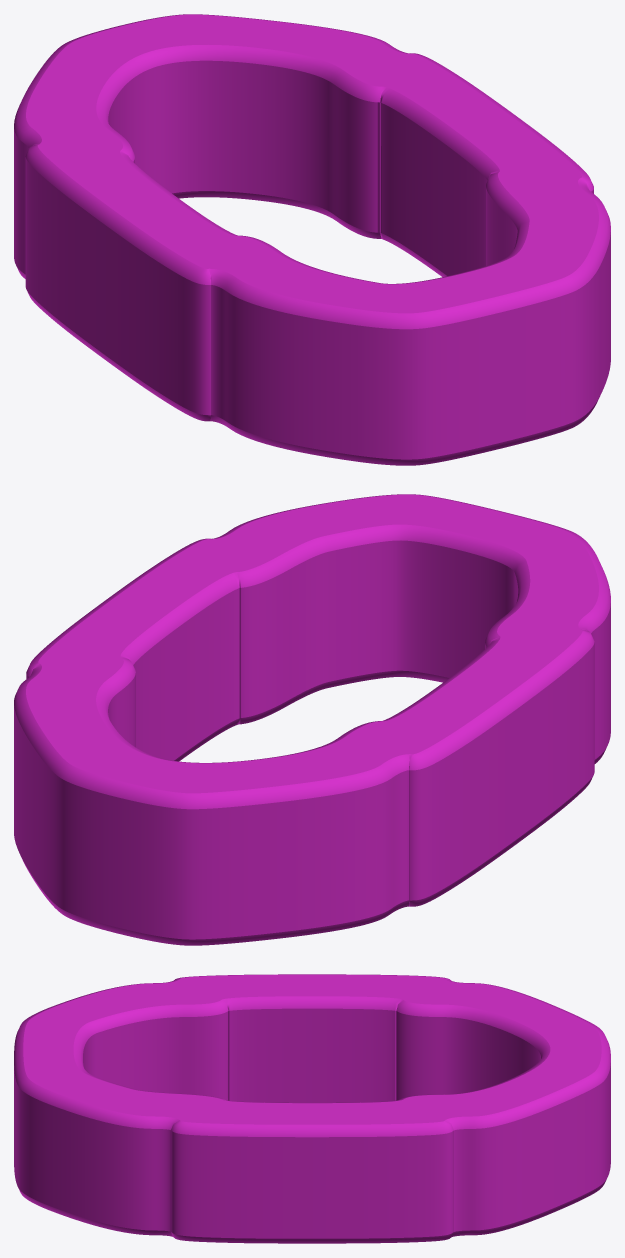
The model's file is Blocky_Number_0.fbx.
3 views of the same model, one above another, from view 1: azimuth 30°, elevation 25°; view 2: azimuth 150°, elevation 25°; view 3: azimuth 270°, elevation 25° (orthographic). The views are drawn at different scales.
Parts seen in each view (by area): view 1: BlockyNumber_0; view 2: BlockyNumber_0; view 3: BlockyNumber_0.
Boxes of the visible parts, x1,y1,x2,y2 form: BlockyNumber_0: (14, 14, 610, 465); BlockyNumber_0: (14, 494, 610, 945); BlockyNumber_0: (14, 974, 610, 1243).
Size of the model in its own units: 0.4002 by 0.14 by 0.6393.
